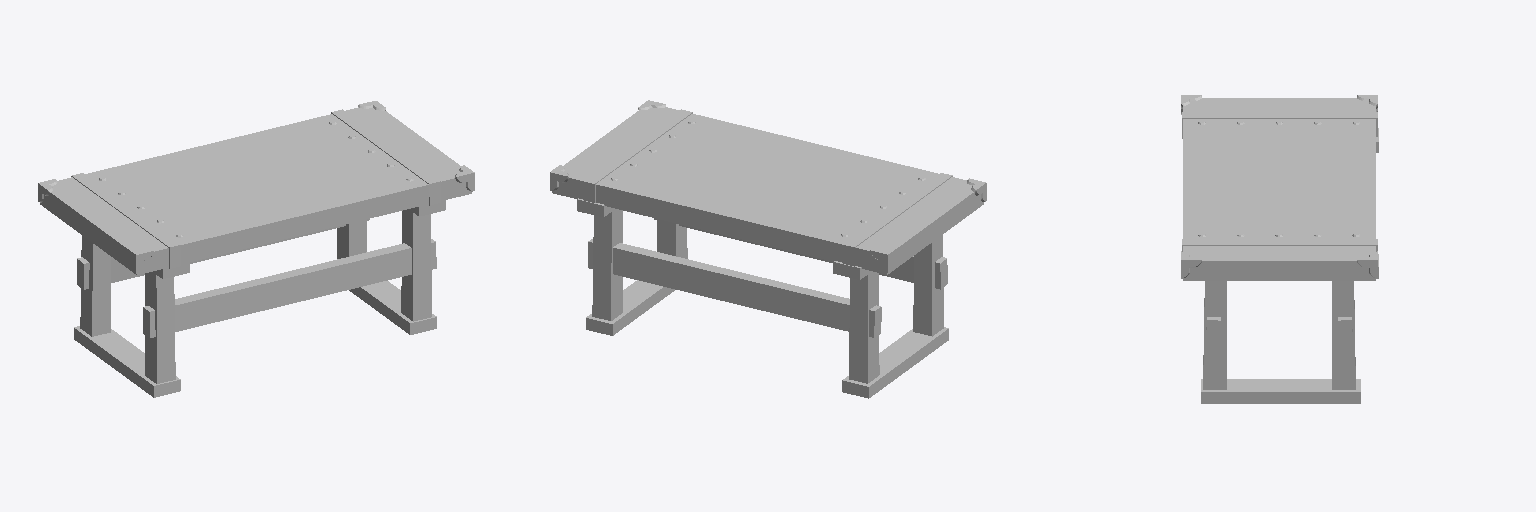
The model's file is Workbench.obj.
3 renders of one model, left to right at view 1: azimuth 30°, elevation 25°; view 2: azimuth 150°, elevation 25°; view 3: azimuth 270°, elevation 25°, orthographic.
Visible parts, largest first — view 1: Workbench_Cube.163; view 2: Workbench_Cube.163; view 3: Workbench_Cube.163.
Boxes of the visible parts, box(x1,y1,x2,y2) form: Workbench_Cube.163: box(38, 101, 474, 397); Workbench_Cube.163: box(550, 100, 986, 398); Workbench_Cube.163: box(1181, 95, 1378, 403).
Bounding box in the file's own units: 2.02 × 0.8946 × 1.02.